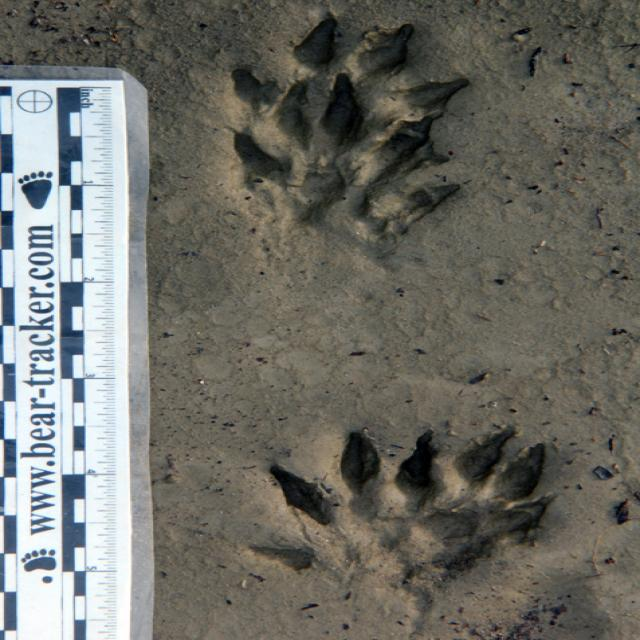mustelid: (257, 419, 476, 605), (216, 81, 462, 245)
